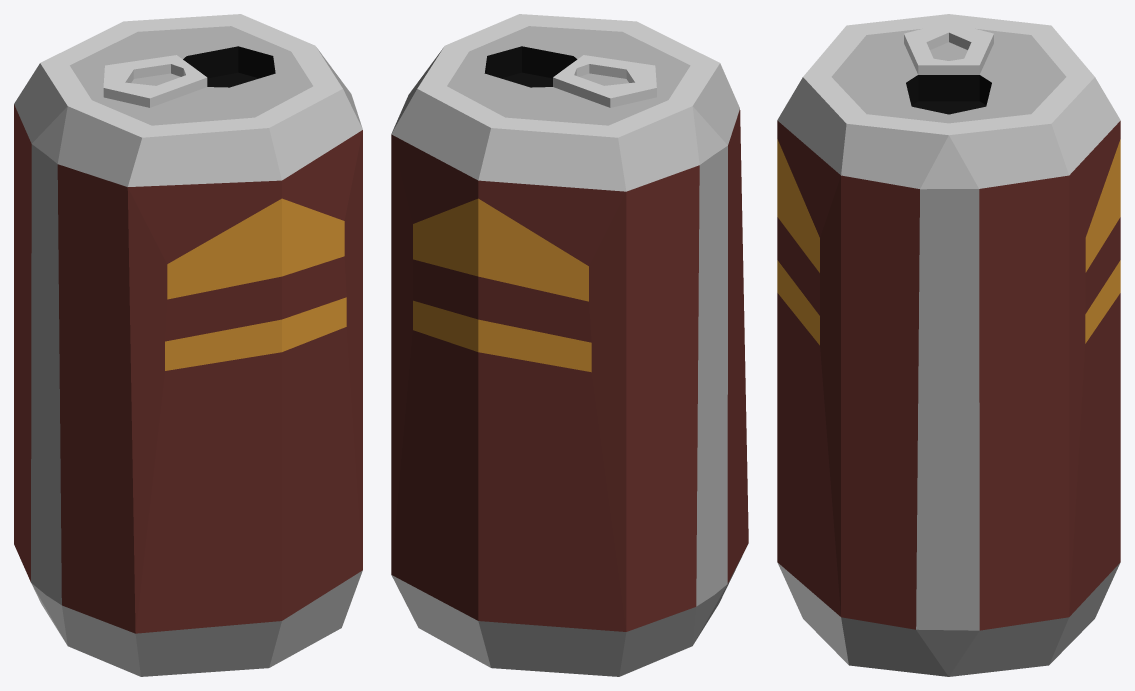
File: SM_Prop_Can_01.fbx
The picture shows the model from 3 angles, left to right: view 1: azimuth 30°, elevation 25°; view 2: azimuth 150°, elevation 25°; view 3: azimuth 270°, elevation 25°; orthographic projection.
Visible parts, largest first — view 1: SM_Prop_Can_01; view 2: SM_Prop_Can_01; view 3: SM_Prop_Can_01.
Boxes of the visible parts, x1,y1,x2,y2 form: SM_Prop_Can_01: [14, 14, 362, 676]; SM_Prop_Can_01: [391, 14, 748, 676]; SM_Prop_Can_01: [777, 14, 1120, 676].
Bounding box in the file's own units: 10.65 × 19.15 × 10.81.
